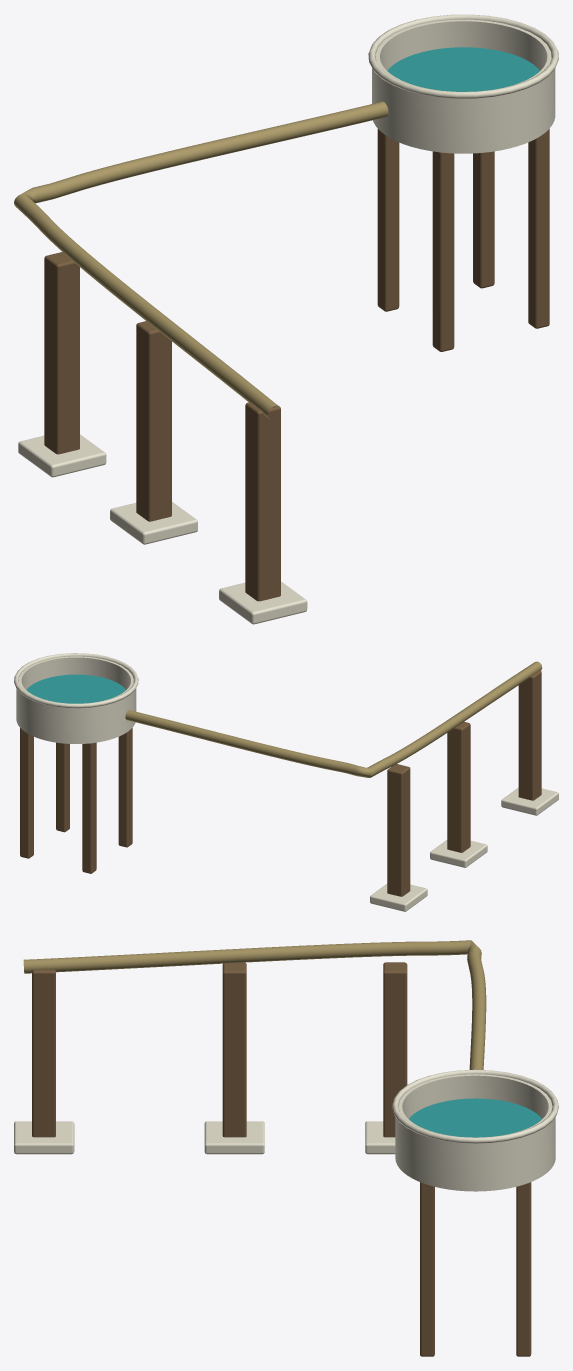
Rendered from water-clock-garden-and-hydraulic-puzzles-siphon-catch--c973d1a8__31932.glb.
The picture shows the model from 3 angles, top to bottom: view 1: azimuth 30°, elevation 25°; view 2: azimuth 150°, elevation 25°; view 3: azimuth 270°, elevation 25°; orthographic projection. The views are drawn at different scales.
Parts seen in each view (by area): view 1: siphon-catch-basin; view 2: siphon-catch-basin; view 3: siphon-catch-basin.
Part boxes in pixels (x1,y1,x2,y2): siphon-catch-basin: (14, 14, 558, 624); siphon-catch-basin: (14, 653, 558, 911); siphon-catch-basin: (14, 940, 558, 1356).
Bounding box in the file's own units: 2.81 × 1.27 × 2.72.
